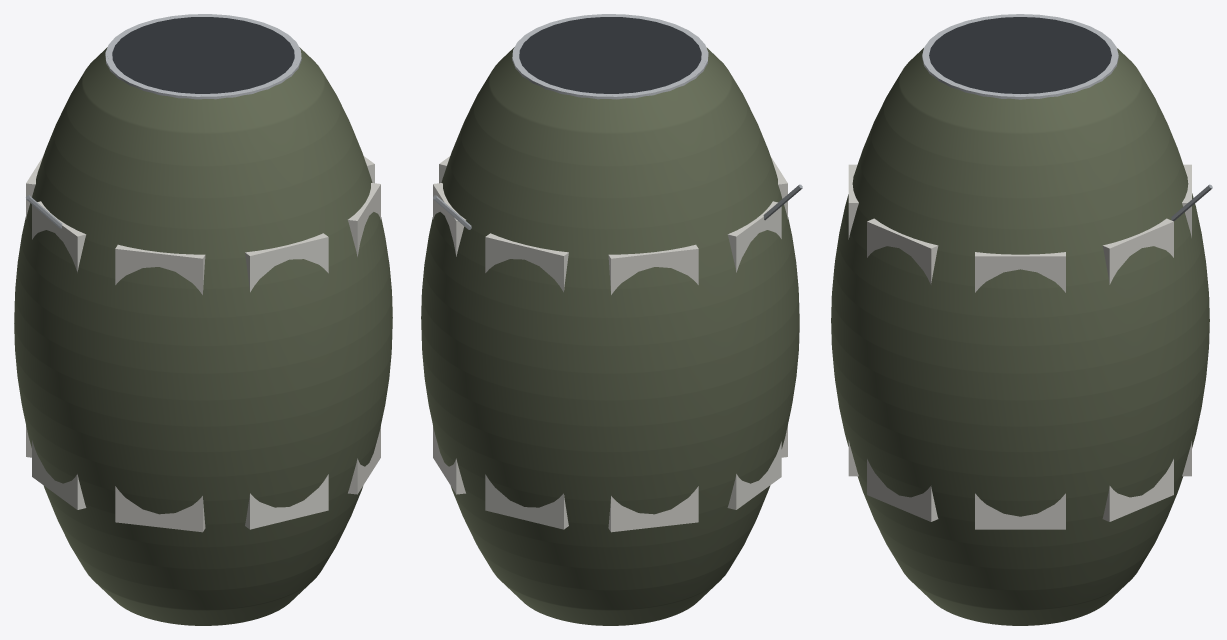
Rendered from progress_cargo_module.glb.
The picture shows the model from 3 angles, left to right: view 1: azimuth 30°, elevation 25°; view 2: azimuth 150°, elevation 25°; view 3: azimuth 270°, elevation 25°; orthographic projection.
Visible parts, largest first — view 1: body, slot_stowage__racks; view 2: body, slot_stowage__racks; view 3: body, slot_stowage__racks.
Boxes of the visible parts, bbox=[...] form: body: bbox=[14, 14, 392, 625]; slot_stowage__racks: bbox=[26, 156, 380, 532]; body: bbox=[421, 14, 802, 625]; slot_stowage__racks: bbox=[433, 156, 787, 532]; body: bbox=[831, 14, 1212, 625]; slot_stowage__racks: bbox=[848, 164, 1191, 529].
Size of the model in its own units: 1.89 by 2.75 by 1.8.
